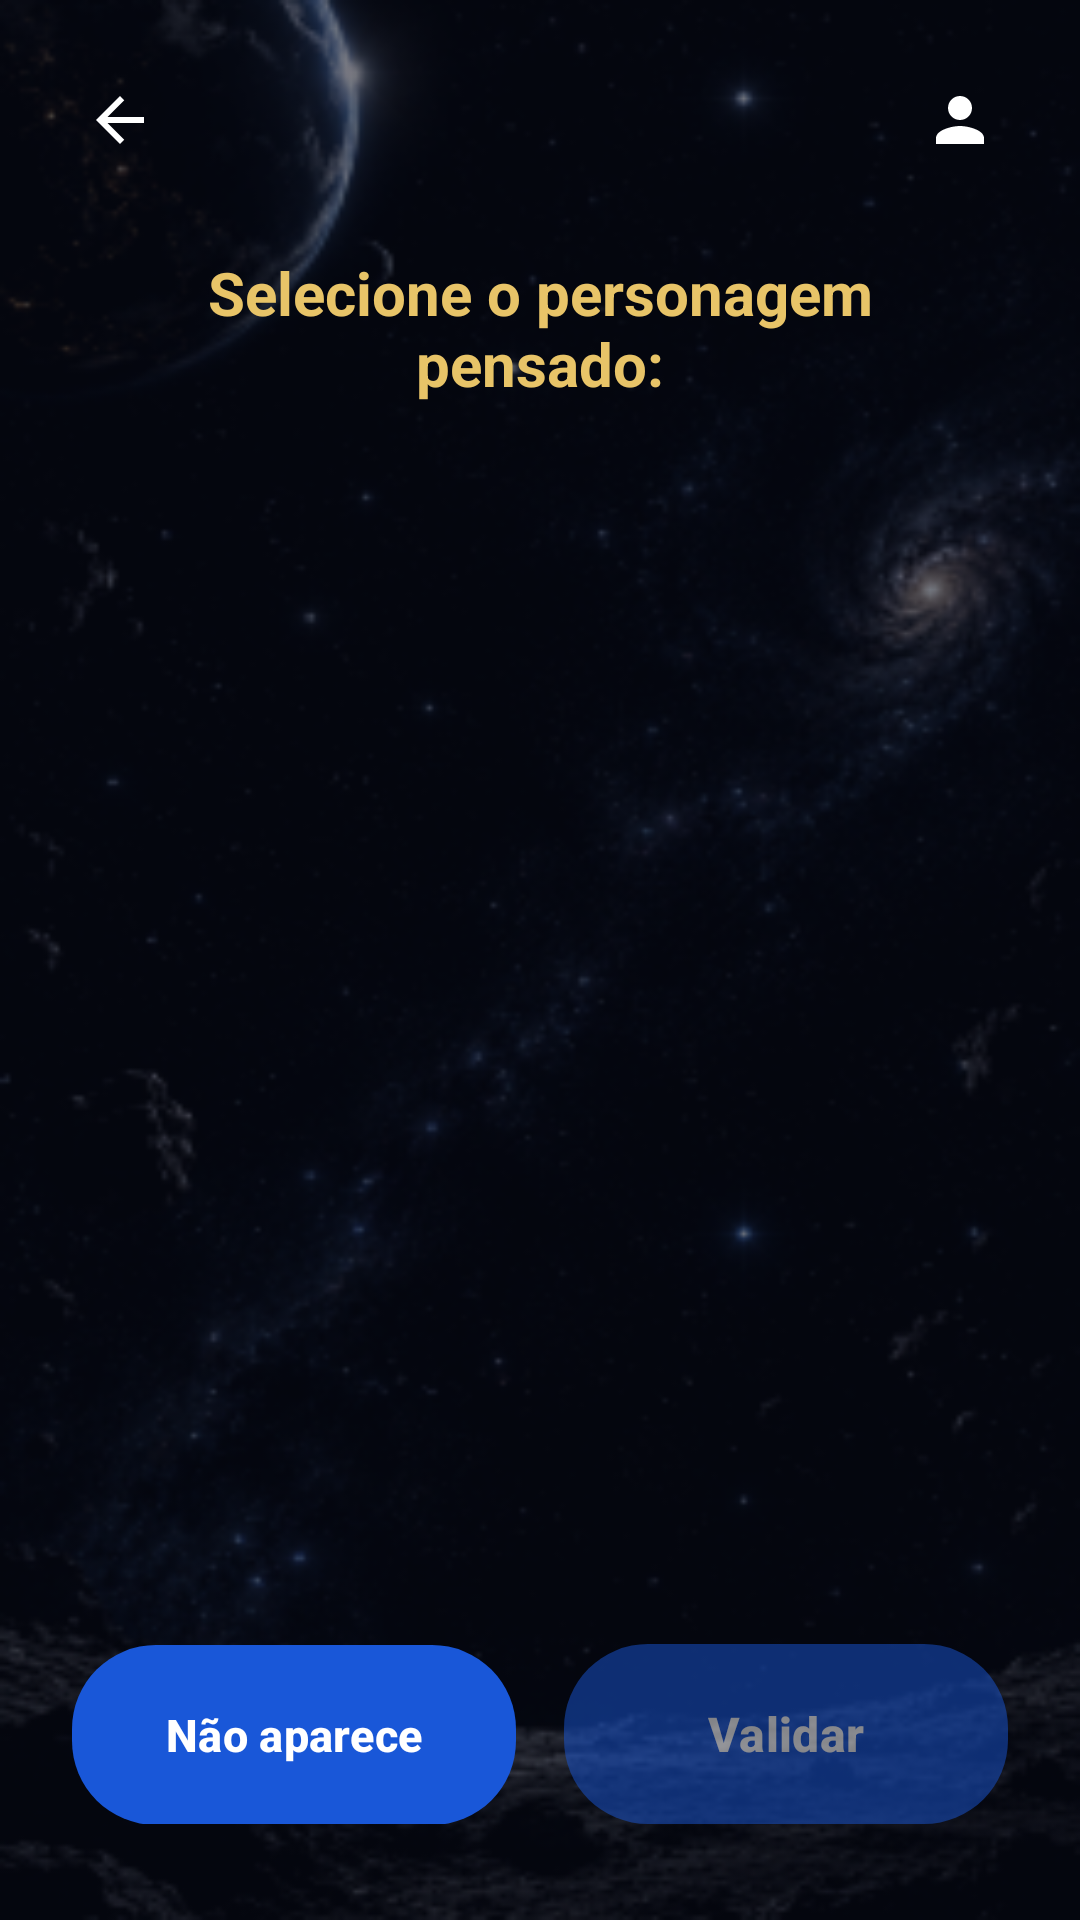

Where to tap for icons on this 1080*1920 app screen, as (x=x, y=y):
Perfil: (x=947, y=137)
Voltar: (x=120, y=127)
